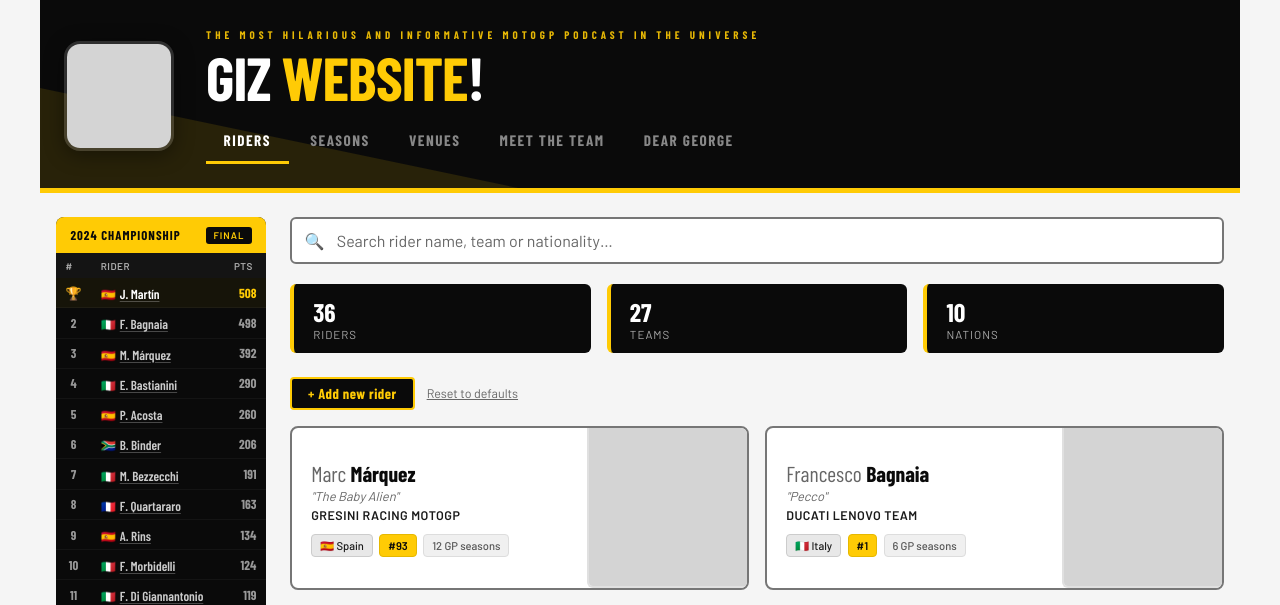
Test: Riders view › back button on rider detail returns to the grid
Step 1. Click the button that starts with "Francesco" → (1142, 508), box [765, 426, 1224, 590]
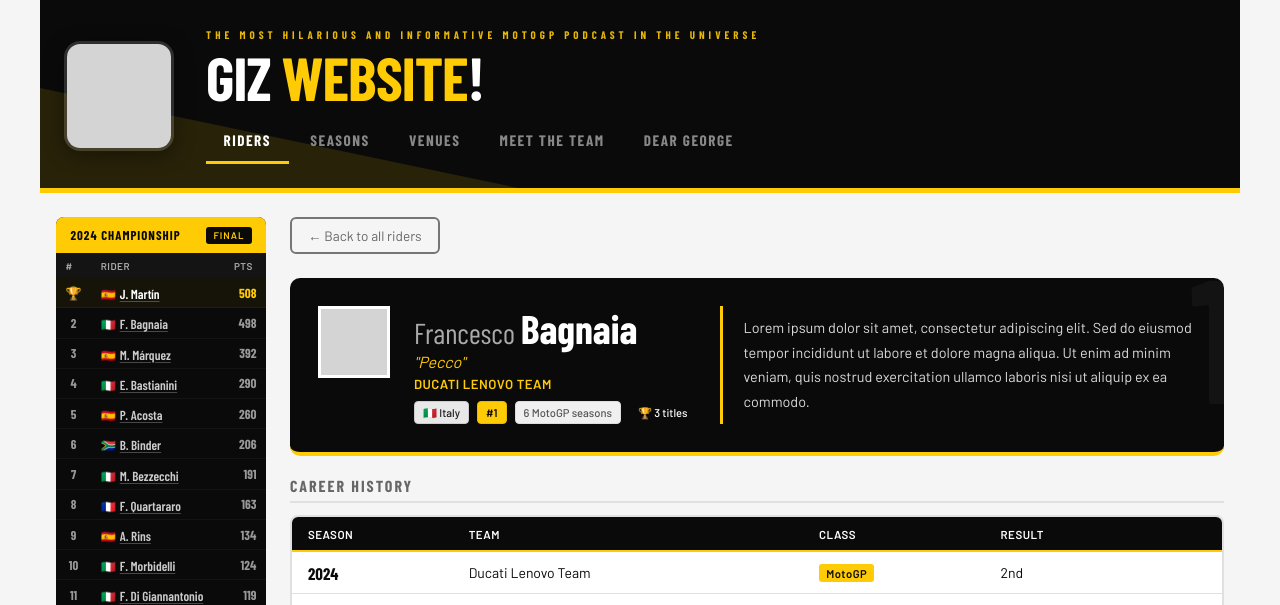
Step 2. Click the button "← Back to all riders" → (365, 236), box [290, 217, 440, 254]
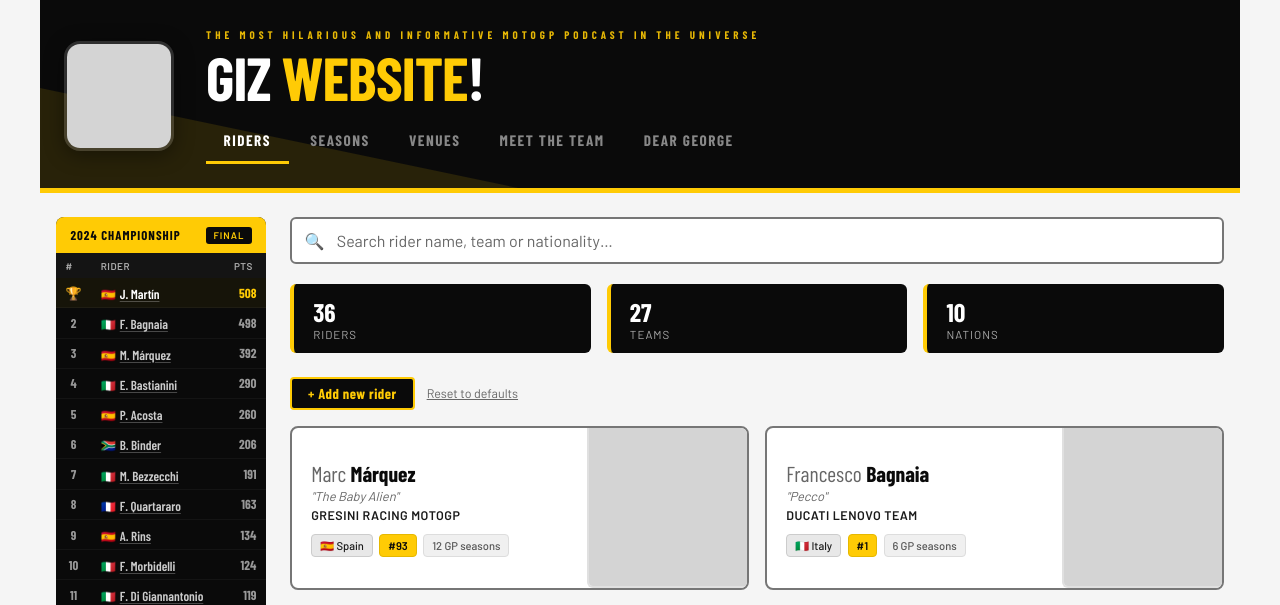
expect the search field named "search riders" is shown: met, box [290, 217, 1224, 264]
